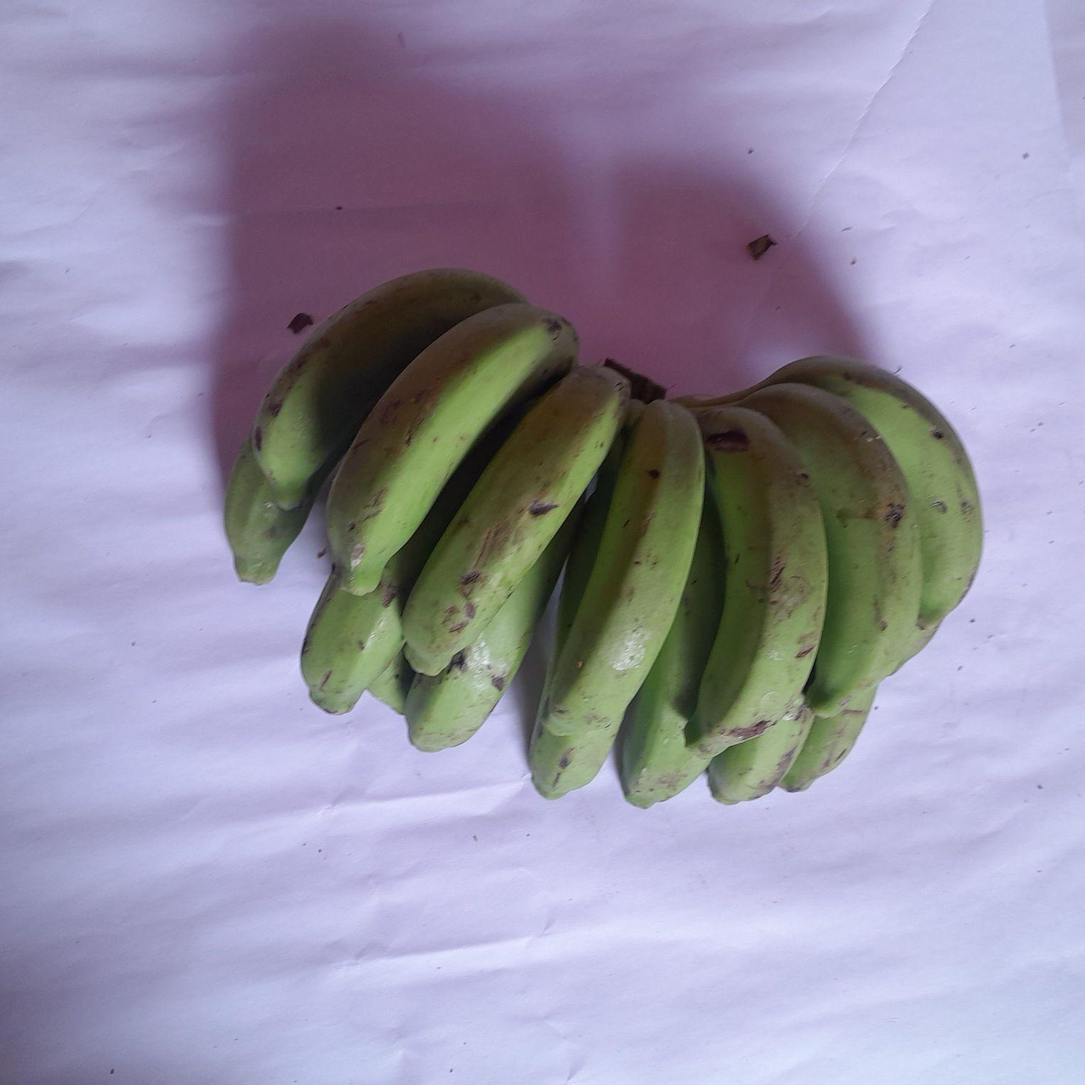Banana Unripe: (225, 269, 526, 583), (705, 356, 983, 654), (326, 303, 579, 595), (403, 367, 629, 676), (530, 403, 706, 797), (744, 384, 922, 716), (684, 407, 829, 758), (301, 453, 481, 714), (405, 504, 581, 752), (621, 494, 725, 807), (708, 704, 814, 804)
